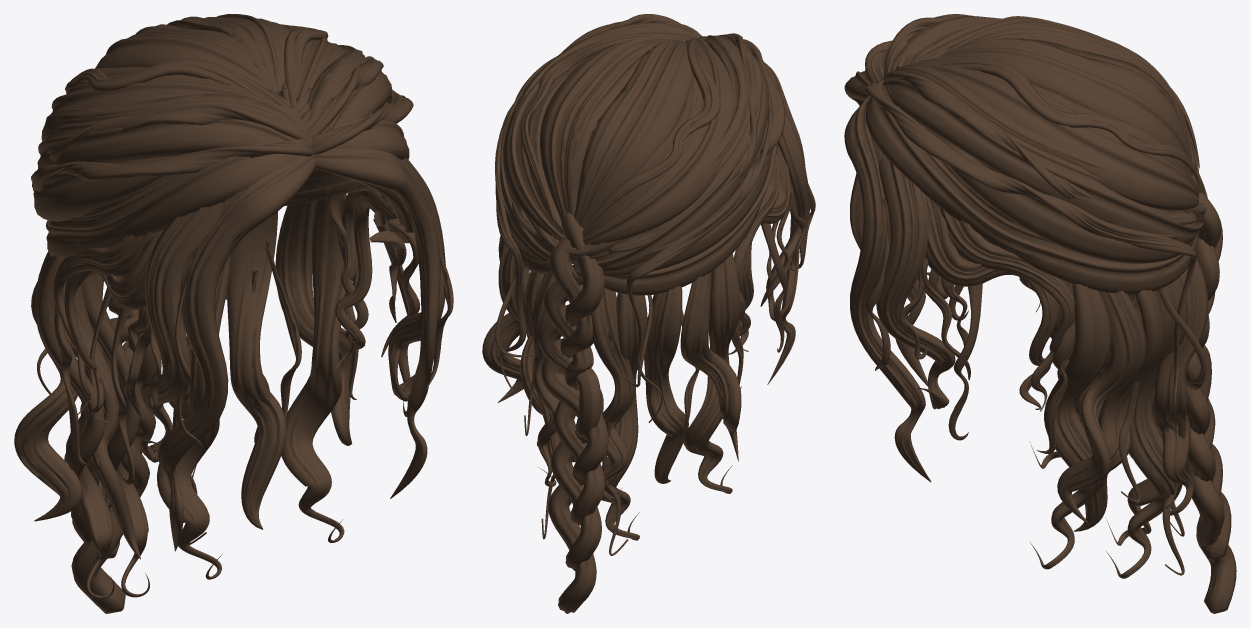
Rendered from girl.glb.
3 views of the same model, side by side, from view 1: azimuth 30°, elevation 25°; view 2: azimuth 150°, elevation 25°; view 3: azimuth 270°, elevation 25° (orthographic). The views are drawn at different scales.
Visible parts, largest first — view 1: girl / supplied hairstyle; view 2: girl / supplied hairstyle; view 3: girl / supplied hairstyle.
Part boxes in pixels (box(x1,y1,x2,y2)): girl / supplied hairstyle: box(14, 14, 453, 613); girl / supplied hairstyle: box(482, 14, 815, 613); girl / supplied hairstyle: box(844, 14, 1236, 613).
Size of the model in its own units: 0.2552 by 0.4728 by 0.2902.
